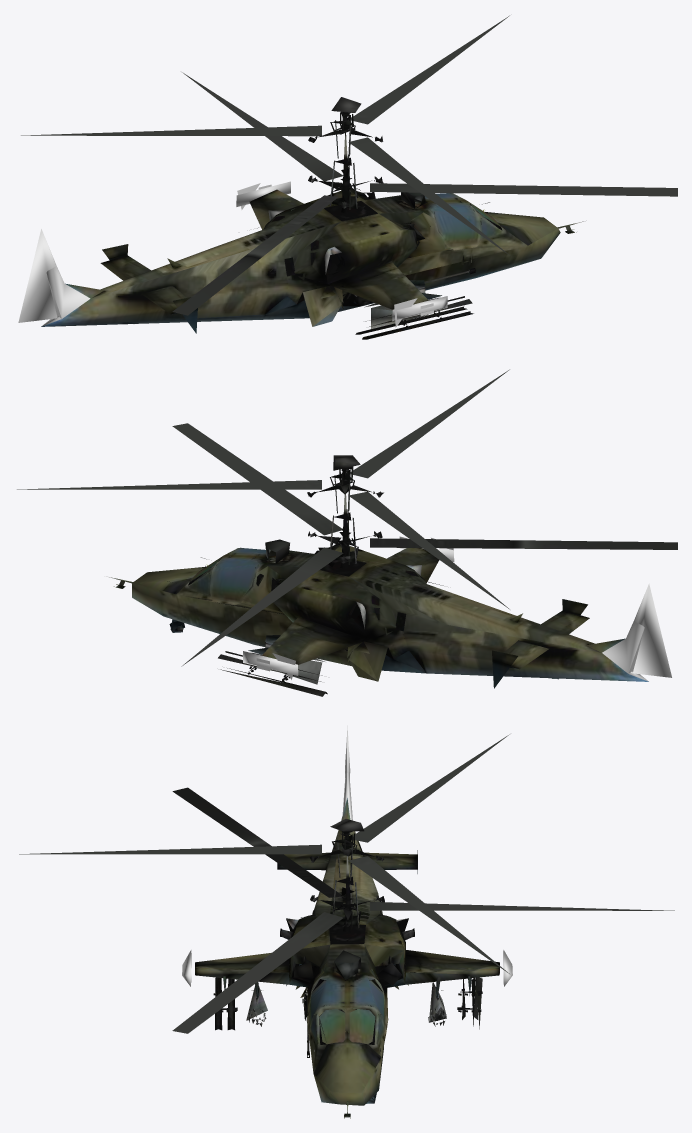
3 renders of one model, top to bottom at view 1: azimuth 30°, elevation 25°; view 2: azimuth 150°, elevation 25°; view 3: azimuth 270°, elevation 25°, orthographic.
Visible parts, largest first — view 1: g_ka52_hull, g_ka52_rotor, g_ka52_rotor2; view 2: g_ka52_hull, g_ka52_rotor, g_ka52_rotor2; view 3: g_ka52_hull, g_ka52_rotor, g_ka52_rotor2.
Boxes of the visible parts, x1,y1,x2,y2 form: g_ka52_hull: (18,97,583,339); g_ka52_rotor: (172,72,677,315); g_ka52_rotor2: (21,15,509,255); g_ka52_hull: (106,455,671,696); g_ka52_rotor: (172,423,677,666); g_ka52_rotor2: (17,369,509,609); g_ka52_hull: (182,725,512,1118); g_ka52_rotor: (172,787,674,1033); g_ka52_rotor2: (19,734,509,973).
Size of the model in its own units: 14.2 by 4.84 by 14.08.
4 materials, 3 textured.
